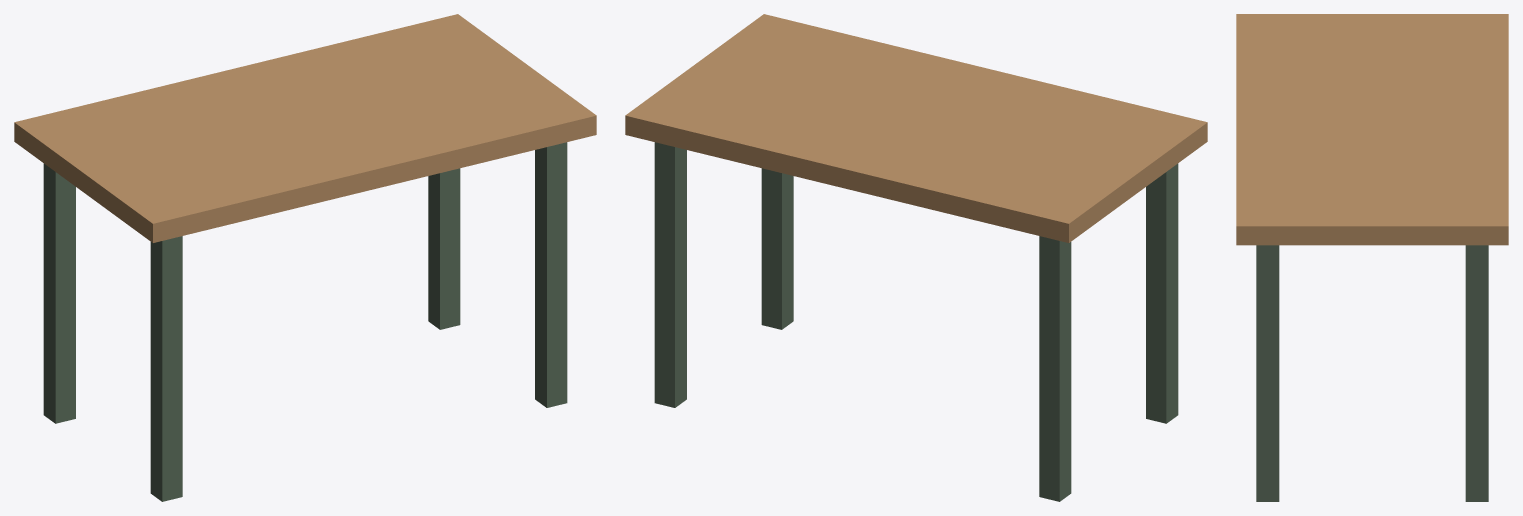
Rendered from desk.glb.
The picture shows the model from 3 angles, left to right: view 1: azimuth 30°, elevation 25°; view 2: azimuth 150°, elevation 25°; view 3: azimuth 270°, elevation 25°; orthographic projection.
Parts seen in each view (by area): view 1: Desktop, Leg (×4); view 2: Desktop, Leg (×4); view 3: Desktop, Leg (×2).
Part boxes in pixels (box(x1,y1,x2,y2)): Desktop: box(14, 14, 596, 242); Leg (×4): box(43, 142, 567, 501); Desktop: box(625, 14, 1207, 242); Leg (×4): box(654, 142, 1178, 501); Desktop: box(1236, 14, 1508, 245); Leg (×2): box(1256, 245, 1488, 501).
Bounding box in the file's own units: 1.2 × 0.75 × 0.65.
